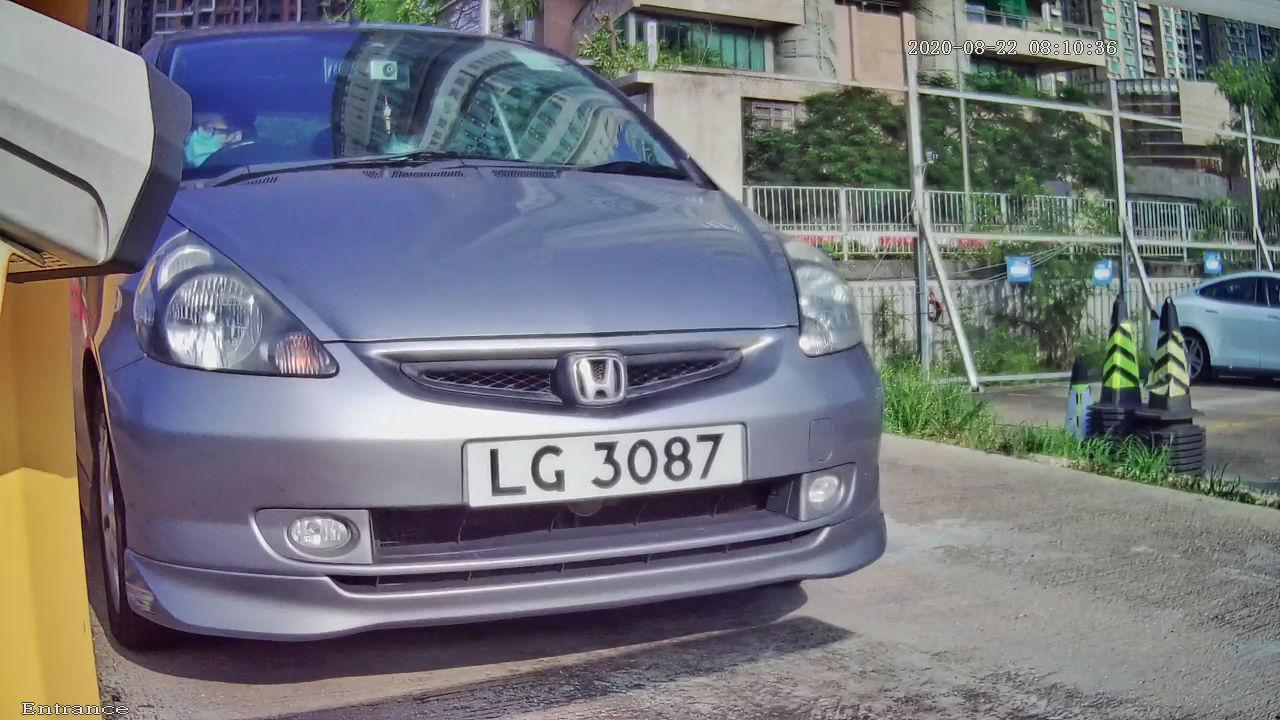Car: (23, 1, 955, 692)
License Plate: (446, 394, 756, 536)
